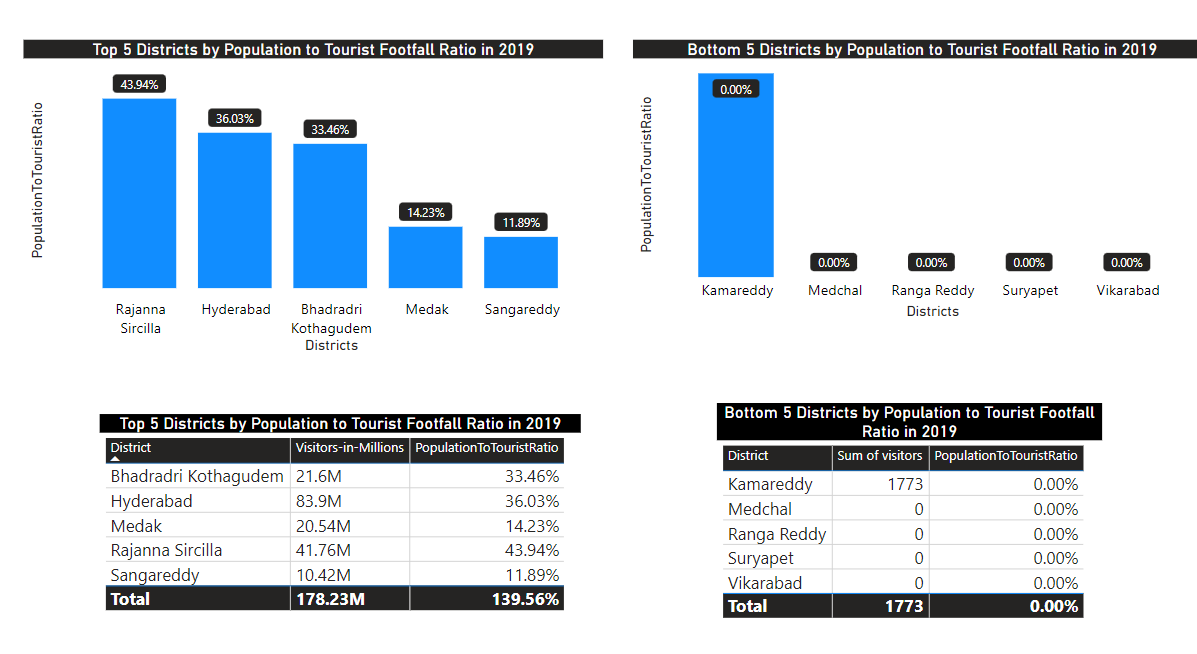

What the dashboard file says about the page in this screenshot:
{"tool":"powerbi","page":{"name":"Insight_6","canvas":[1280,720],"ordinal":10},"visuals":[{"type":"tableEx","title":"Top 5 Districts by Population to Tourist Footfall Ratio in 2019","fields":{"Values":["domestic_vistors_file.district","domestic_vistors_file.Millions","domestic_vistors_file.PopulationToTouristRatio"]},"box":[126.2,443.9,491.2,216.3],"z":0},{"type":"columnChart","title":"Top 5 Districts by Population to Tourist Footfall Ratio in 2019","fields":{"Category":["domestic_vistors_file.district"],"Y":["domestic_vistors_file.PopulationToTouristRatio"]},"box":[48.4,62,591.5,324.5],"z":1000},{"type":"tableEx","title":"Bottom 5 Districts by Population to Tourist Footfall Ratio in 2019","fields":{"Values":["domestic_vistors_file.district","Sum(domestic_vistors_file.visitors)","domestic_vistors_file.PopulationToTouristRatio"]},"box":[756,432.6,393.2,240],"z":2000},{"type":"columnChart","title":"Bottom 5 Districts by Population to Tourist Footfall Ratio in 2019","fields":{"Category":["domestic_vistors_file.district"],"Y":["domestic_vistors_file.PopulationToTouristRatio"]},"box":[670.3,62,590.3,289.5],"z":3000}]}

Visuals, with their boxes in screenshot pixels (x1, y1, x2, y2), scaled from the page's 1280x720 canvas onto the 1197x654 screenshot:
"Top 5 Districts by Population to Tourist Footfall Ratio in 2019" tableEx: [left=118, top=403, right=577, bottom=600]
"Top 5 Districts by Population to Tourist Footfall Ratio in 2019" columnChart: [left=45, top=56, right=598, bottom=351]
"Bottom 5 Districts by Population to Tourist Footfall Ratio in 2019" tableEx: [left=707, top=393, right=1075, bottom=611]
"Bottom 5 Districts by Population to Tourist Footfall Ratio in 2019" columnChart: [left=627, top=56, right=1179, bottom=319]
